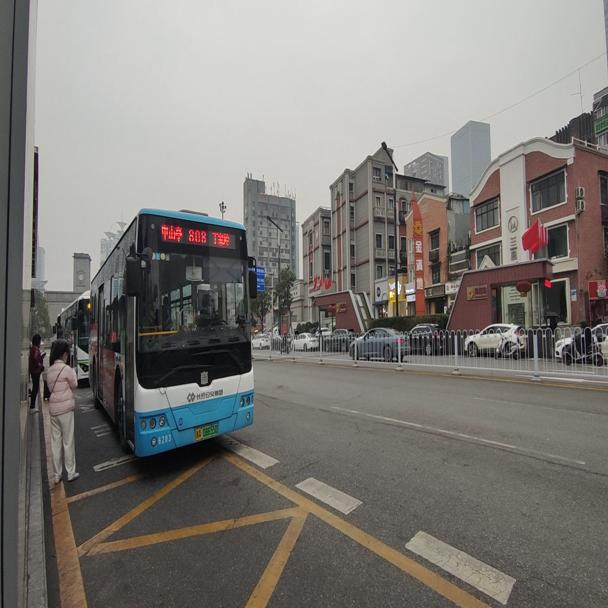bus: (88, 208, 256, 460), (58, 292, 89, 385)
screen: (185, 225, 209, 244)
